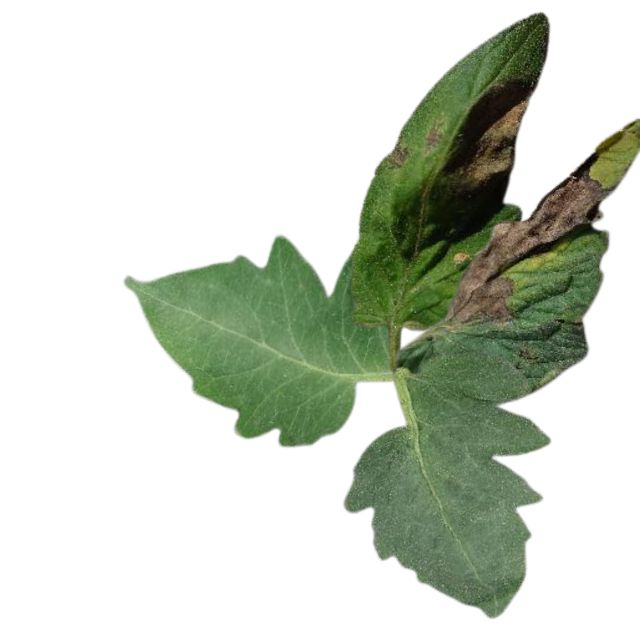Late_blight: (439, 156, 612, 328), (447, 79, 533, 205), (424, 111, 444, 153), (384, 143, 411, 168)
